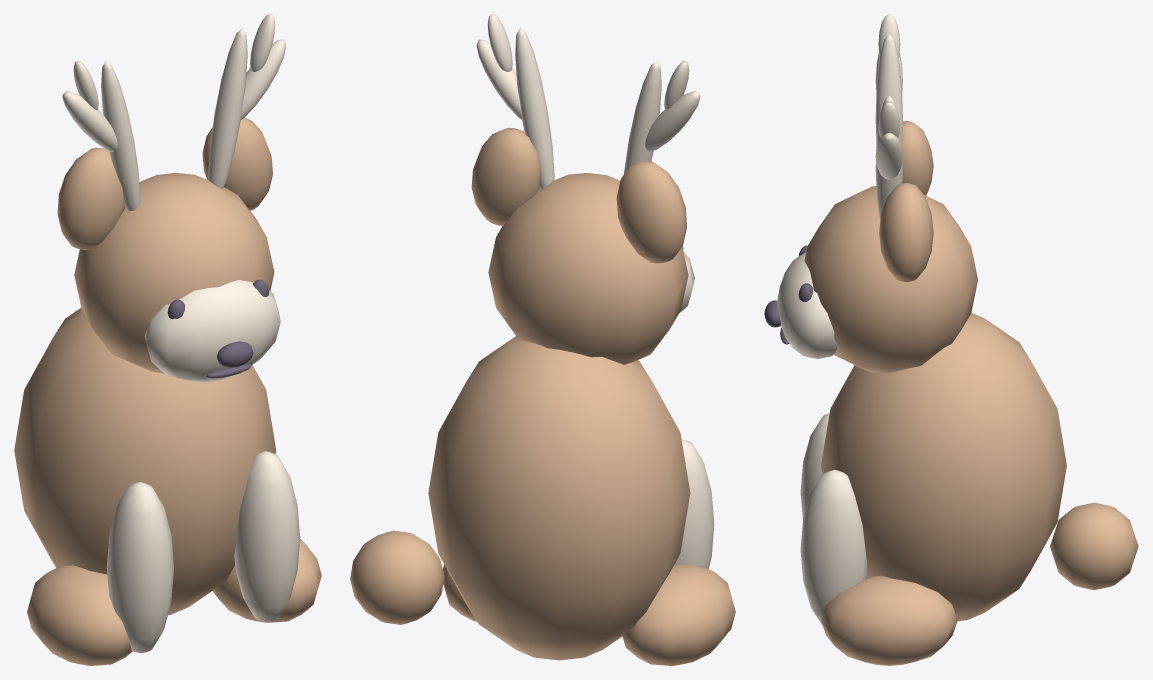
The model's file is deer-support.glb.
3 views of the same model, side by side, from view 1: azimuth 30°, elevation 25°; view 2: azimuth 150°, elevation 25°; view 3: azimuth 270°, elevation 25° (orthographic). The views are drawn at different scales.
Visible parts, largest first — view 1: deer support offline illustration; view 2: deer support offline illustration; view 3: deer support offline illustration.
Boxes of the visible parts, <box> form: deer support offline illustration: <box>14,14,321,665</box>; deer support offline illustration: <box>350,14,735,665</box>; deer support offline illustration: <box>764,14,1138,665</box>.
Size of the model in its own units: 0.43 by 0.9079 by 0.548.
